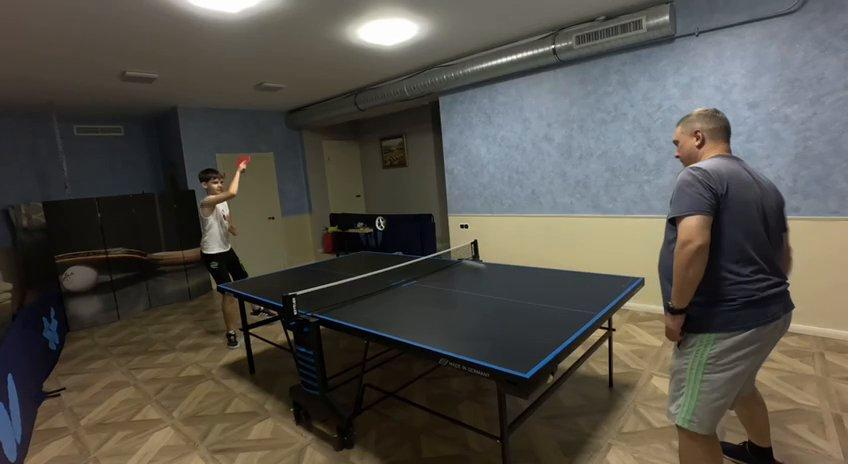Ball: (460, 257, 486, 274)
Net: (280, 241, 481, 325)
Player1: (199, 160, 248, 283)
Player2: (658, 109, 793, 463)
Table: (220, 250, 640, 376)
